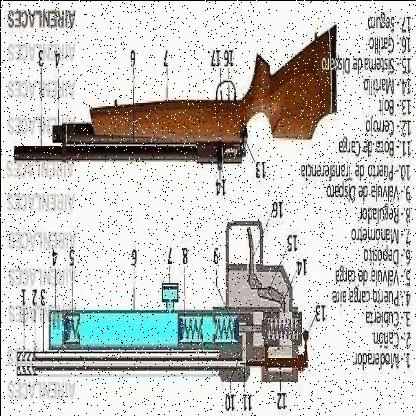rifle: (17, 1, 342, 194)
